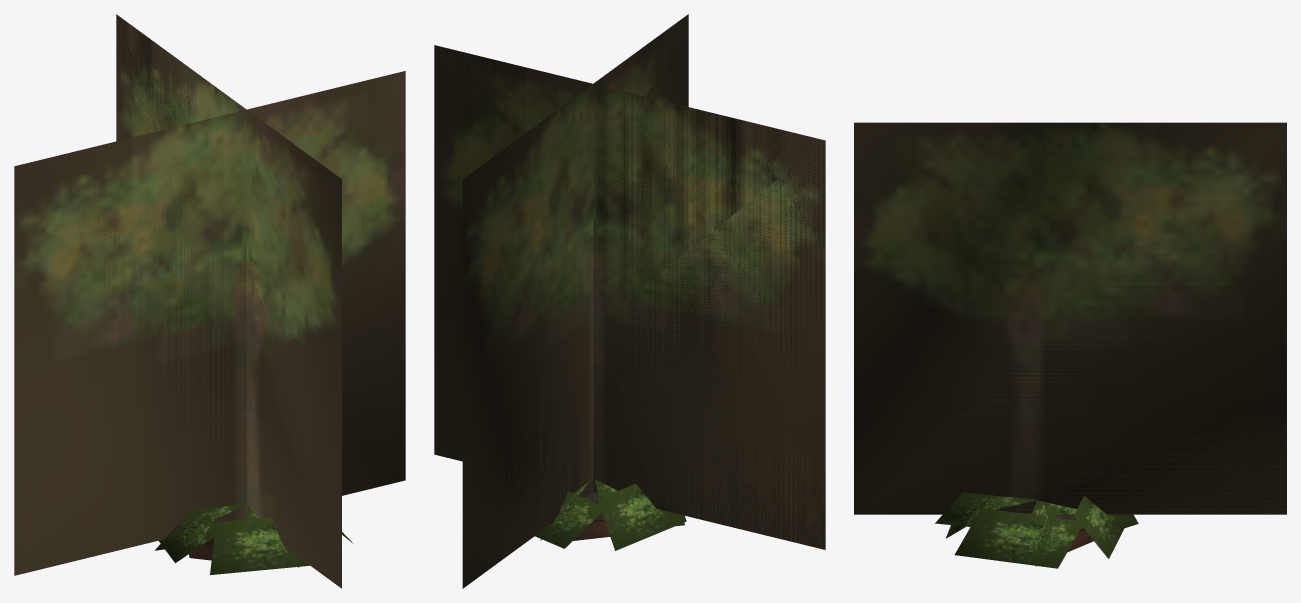
Rendered from mun_all_imprv_planter_s04_l3.fbx.
3 views of the same model, side by side, from view 1: azimuth 30°, elevation 25°; view 2: azimuth 150°, elevation 25°; view 3: azimuth 270°, elevation 25° (orthographic). The views are drawn at different scales.
Visible parts, largest first — view 1: mesh_node; view 2: mesh_node; view 3: mesh_node.
Part boxes in pixels (x1,y1,x2,y2): mesh_node: (14,14,405,588); mesh_node: (434,14,825,588); mesh_node: (854,122,1286,568).
Bounding box in the file's own units: 15.37 × 16.34 × 15.37.
